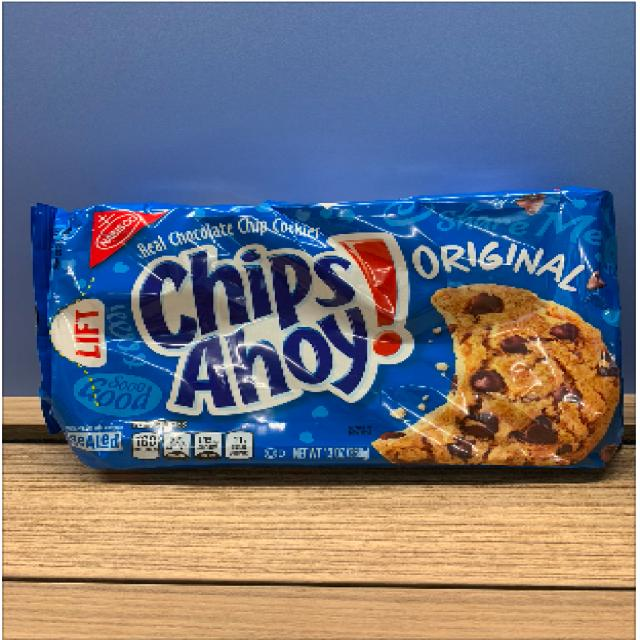object_name: (50, 201, 614, 468)
